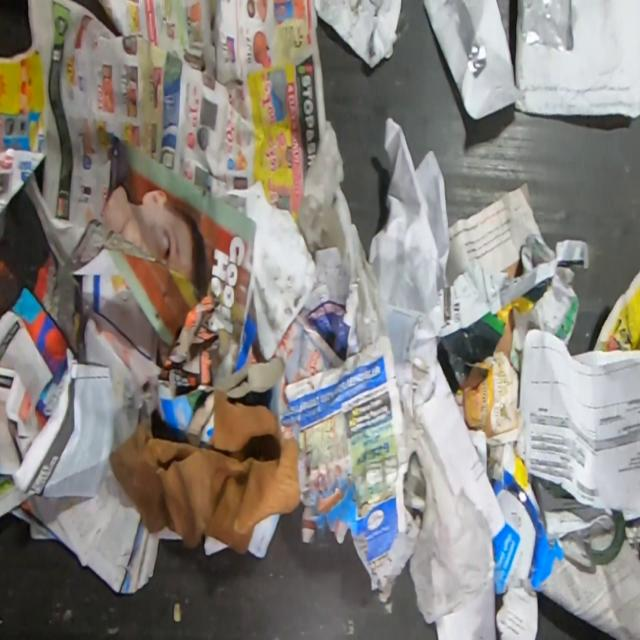cardboard: (488, 442, 564, 595)
